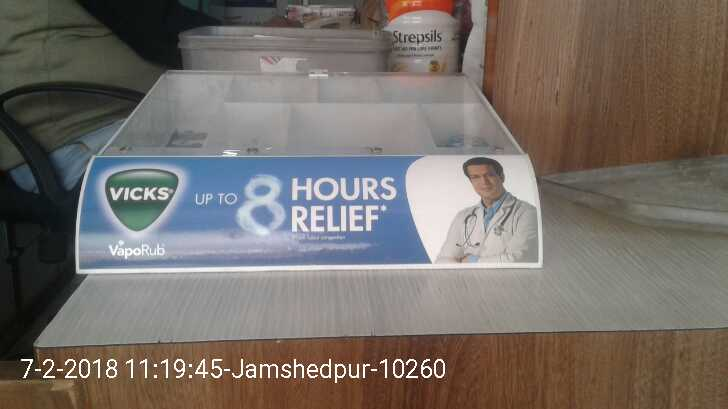reject: (235, 101, 420, 219)
